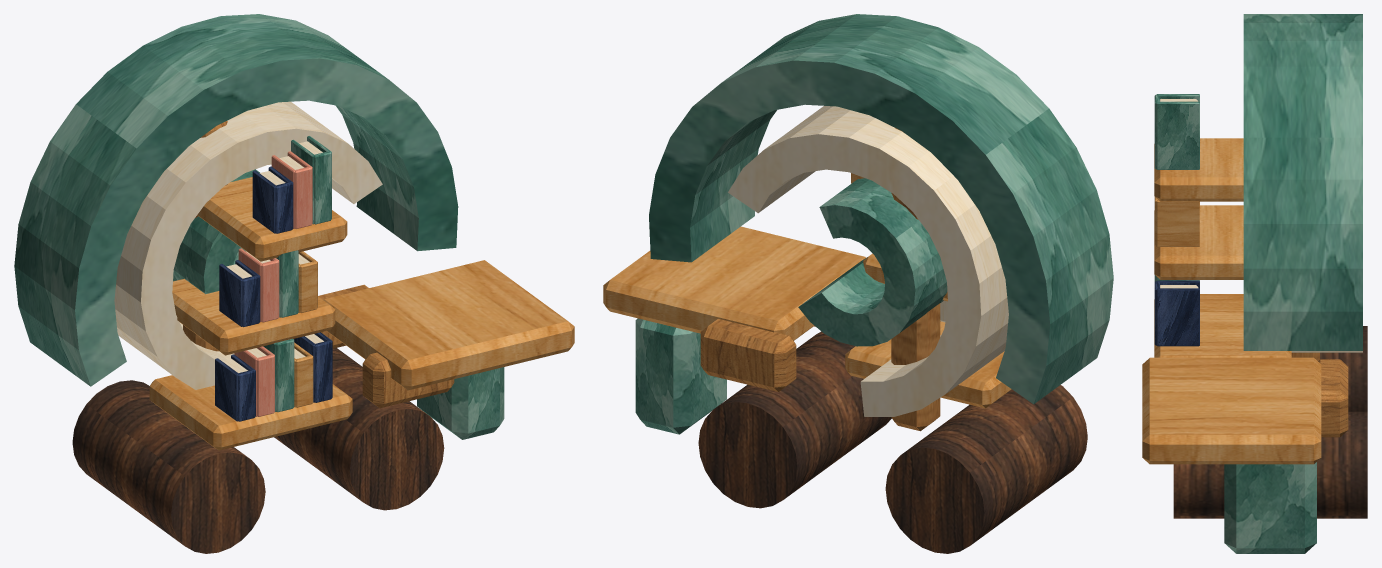
Rendered from revised-02-04.glb.
3 renders of one model, left to right at view 1: azimuth 30°, elevation 25°; view 2: azimuth 150°, elevation 25°; view 3: azimuth 270°, elevation 25°, orthographic. The views are drawn at different scales.
Visible parts, largest first — view 1: snail_library; view 2: snail_library; view 3: snail_library.
Part boxes in pixels (bbox=[...]): snail_library: bbox=[14, 14, 574, 553]; snail_library: bbox=[603, 14, 1113, 553]; snail_library: bbox=[1142, 14, 1367, 553].
Bounding box in the file's own units: 1.72 × 1.61 × 0.755.
1 material, 1 textured.
